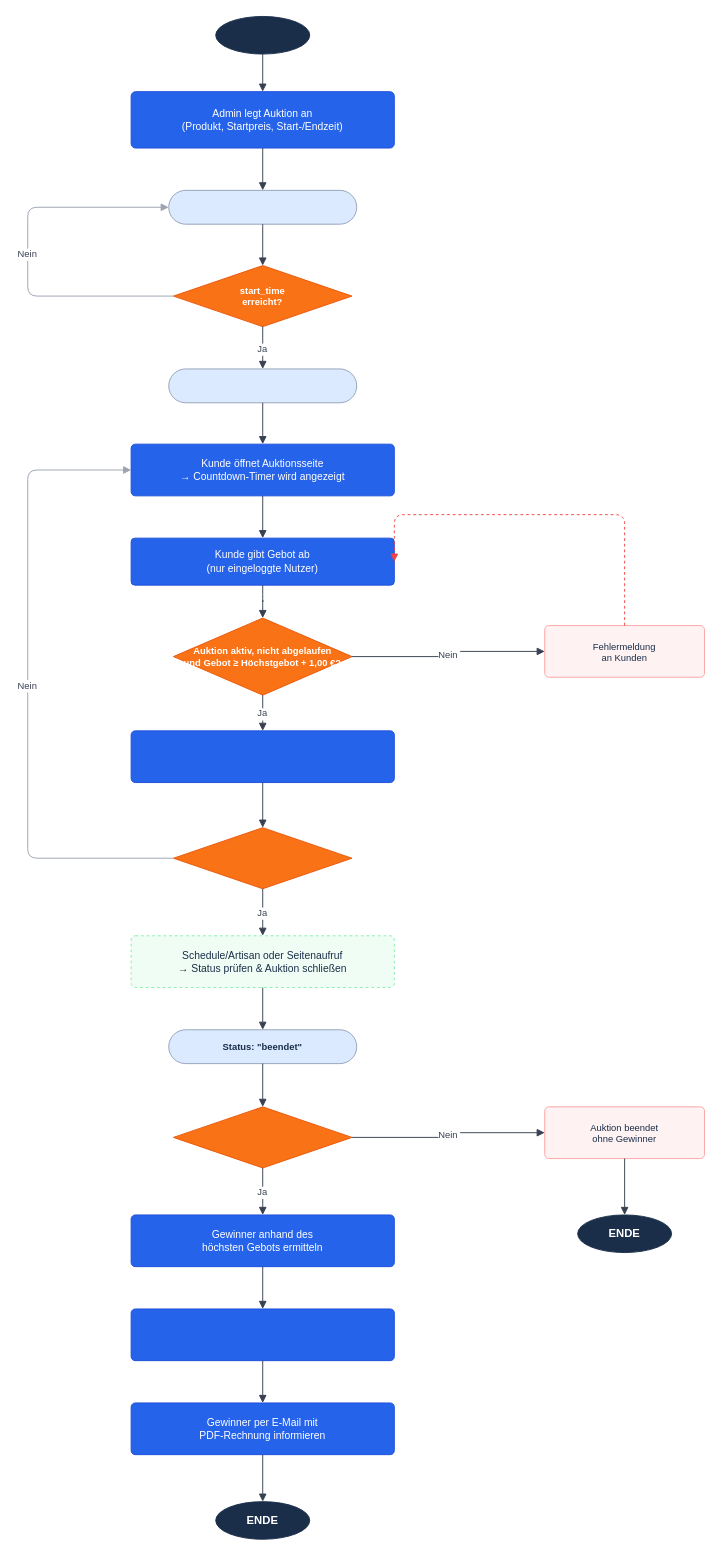
Some shapes in this 721 by 1556 pixel diagram are drawn without their labels. The box of each missing label's shape, as (x1, y1, x2, y2) in pixels:
Auktion beendet: Gebote vorhanden?: (172, 1106, 352, 1168)
Auktionsende erreicht?: (172, 827, 352, 889)
Bestellung + Position erzeugen und Lagerbestand -1: (130, 1308, 394, 1361)
Falls Kunde nicht bereits Höchstbietender: Gebot speichern: (130, 730, 394, 783)
START: (215, 16, 310, 54)
Status: "aktiv": (168, 368, 357, 403)
Status: "geplant": (168, 189, 357, 224)
